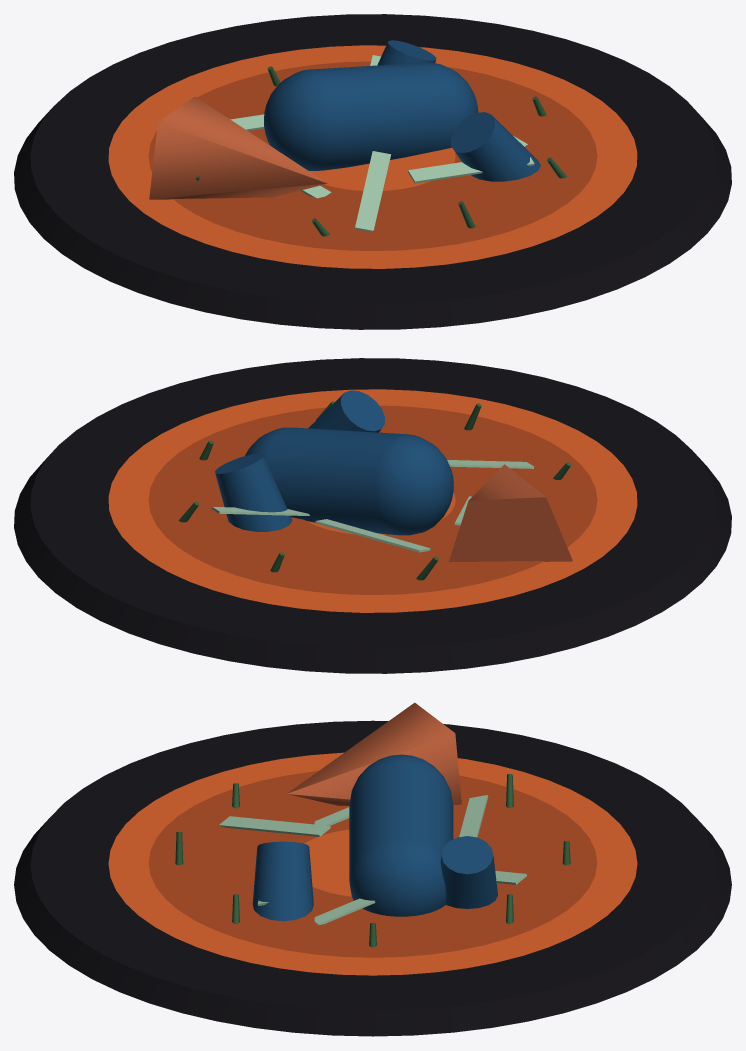
File: homard-bisque.glb
3 renders of one model, top to bottom at view 1: azimuth 30°, elevation 25°; view 2: azimuth 150°, elevation 25°; view 3: azimuth 270°, elevation 25°, orthographic.
Size of the model in its own units: 2.2 by 0.4269 by 2.2.
